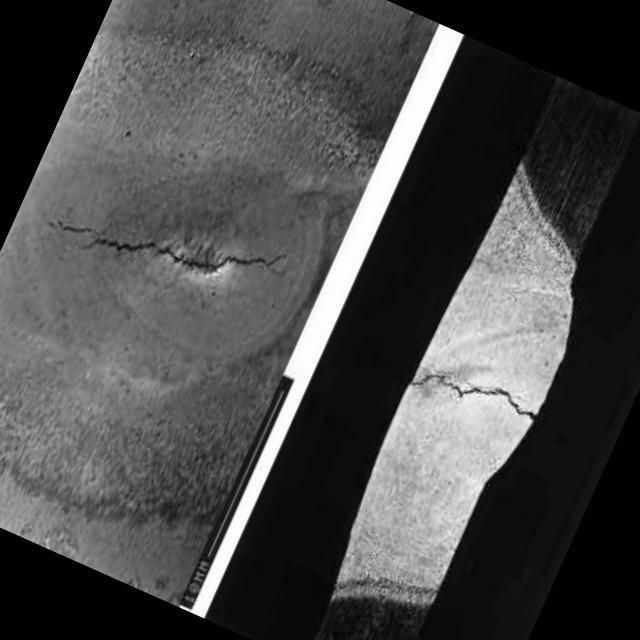defect: (51, 212, 297, 279), (407, 368, 540, 426)
